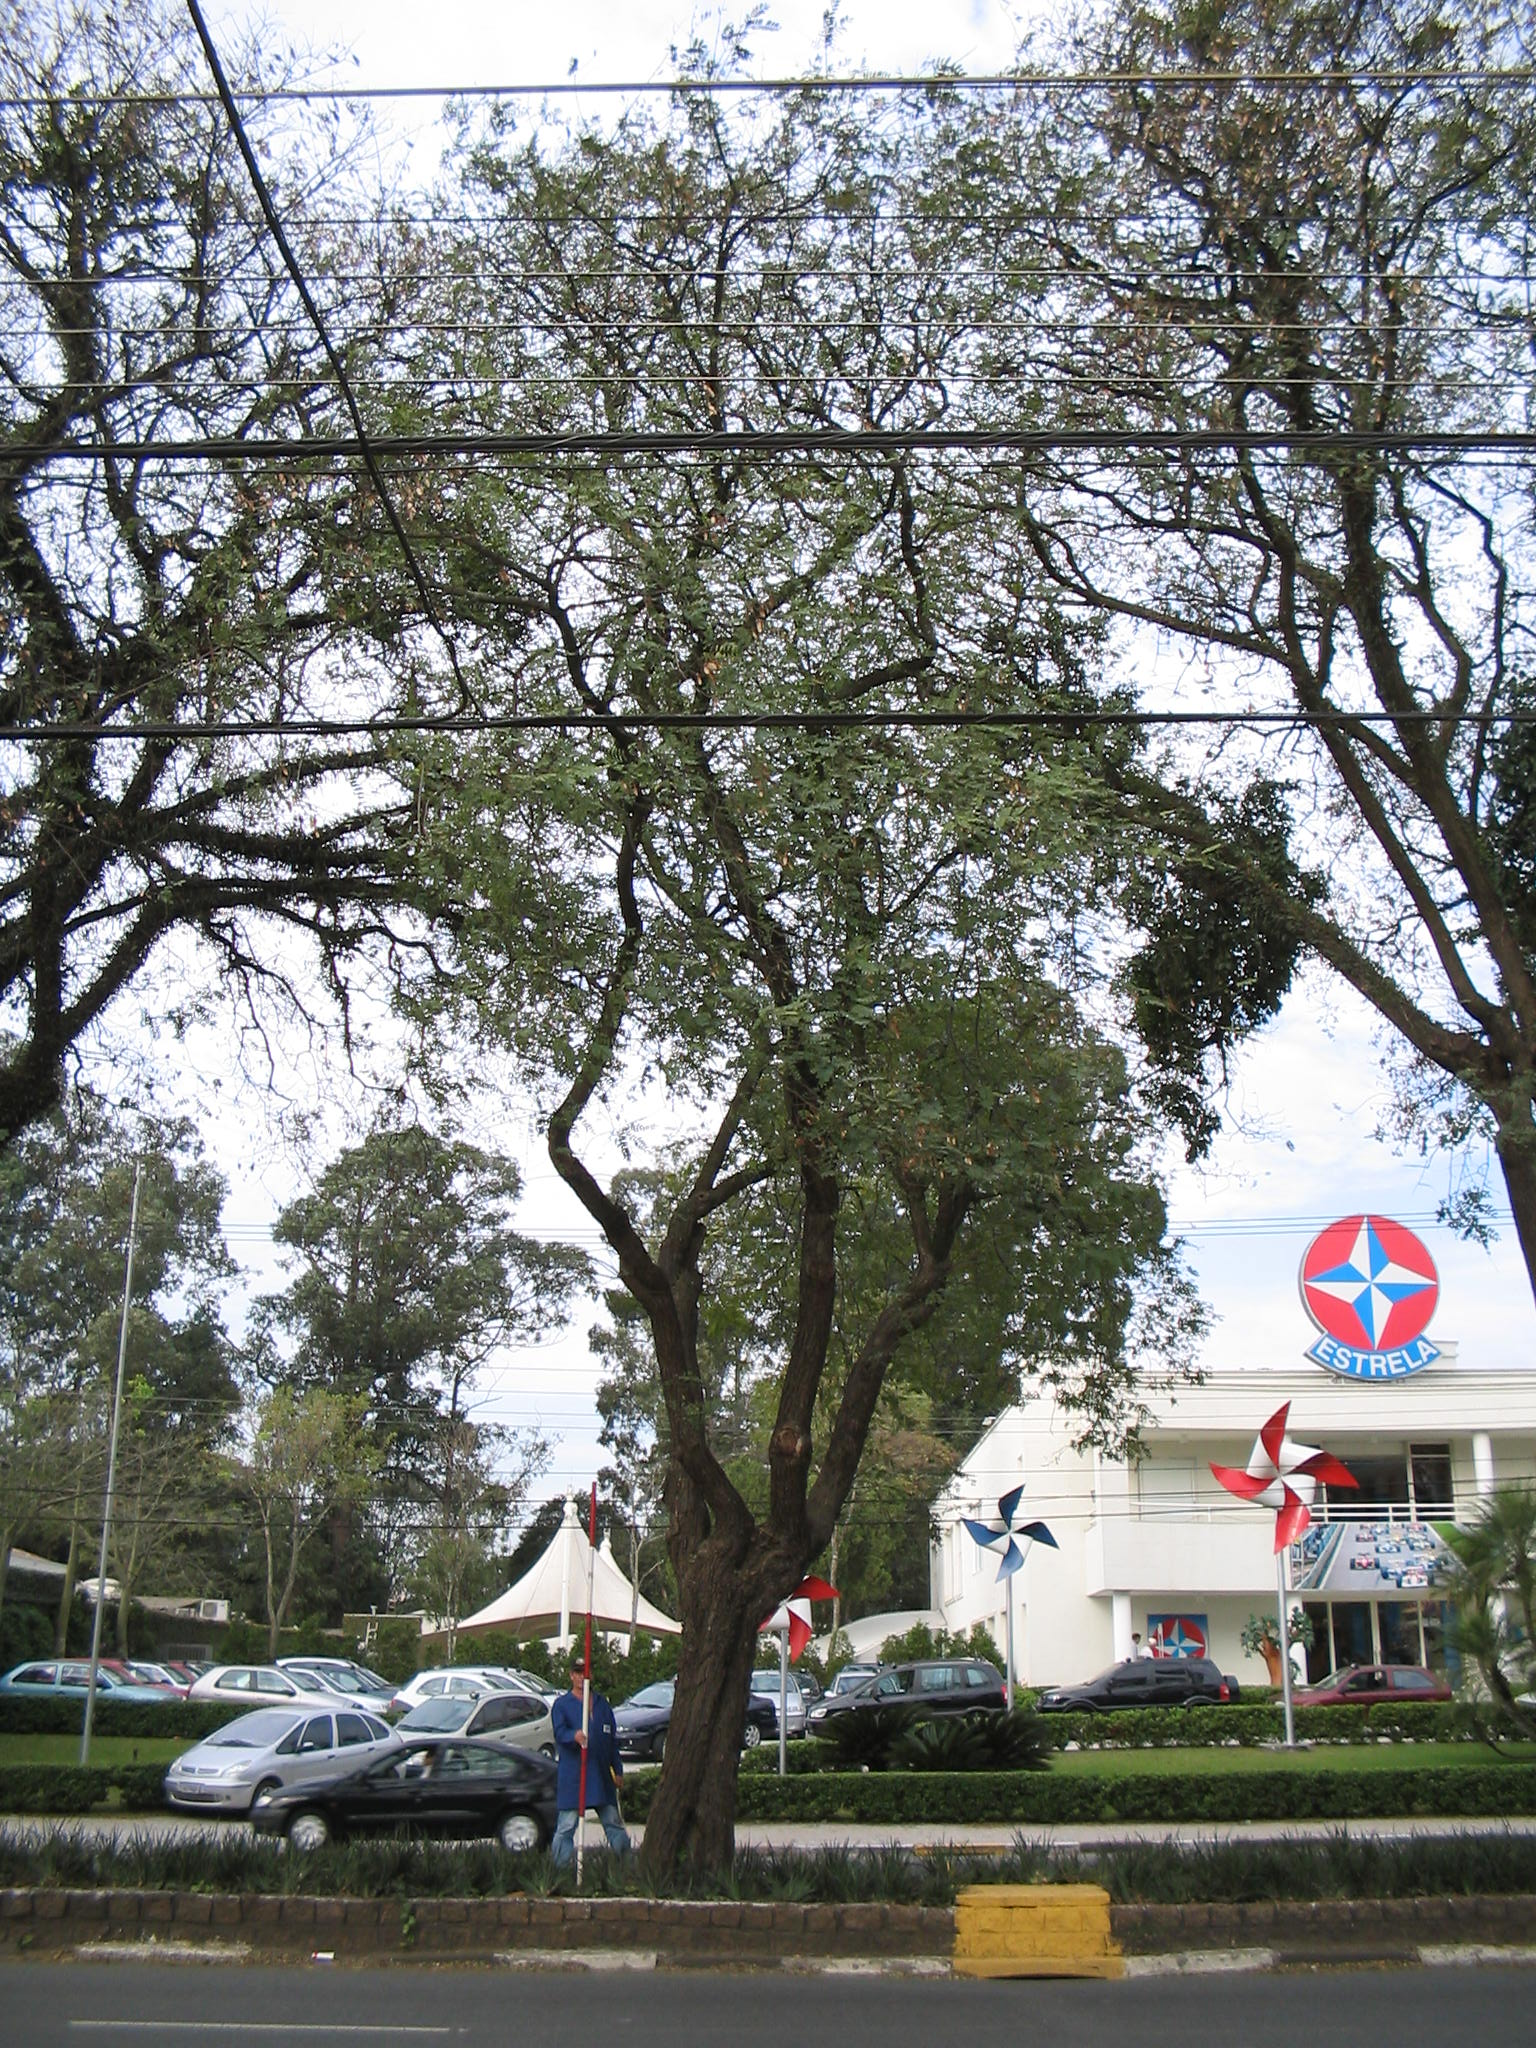stem: (616, 1553, 831, 1895)
stick: (552, 1482, 624, 1896)
tree: (198, 16, 1189, 1903)
